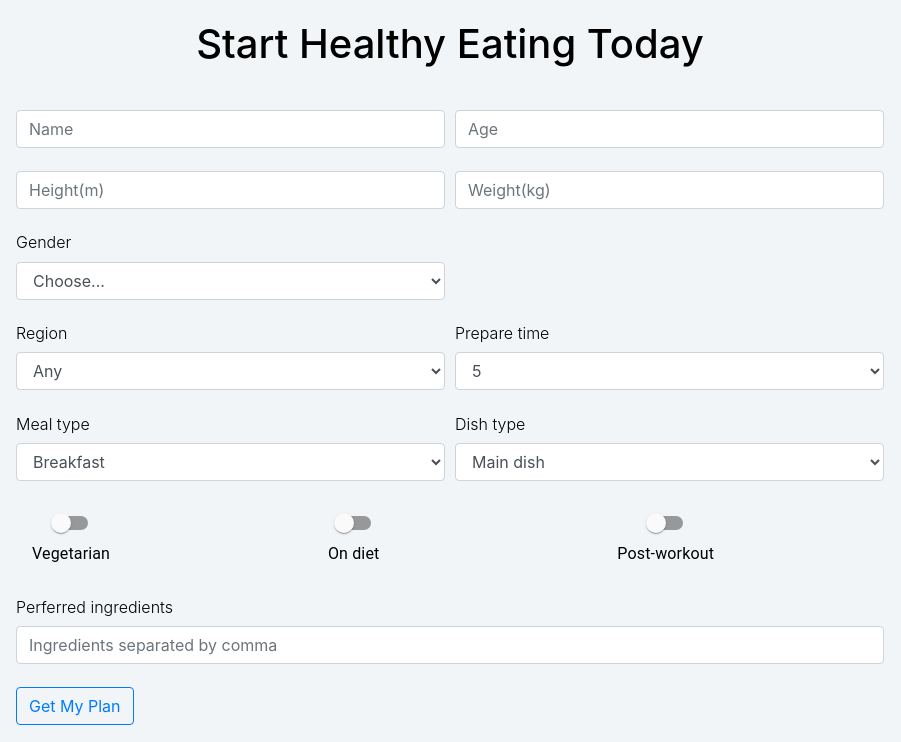
Test: Personal plan page scenario › should mock 3 suggestion
Click the button "Get My Plan": (75, 706) [16, 687, 134, 725]
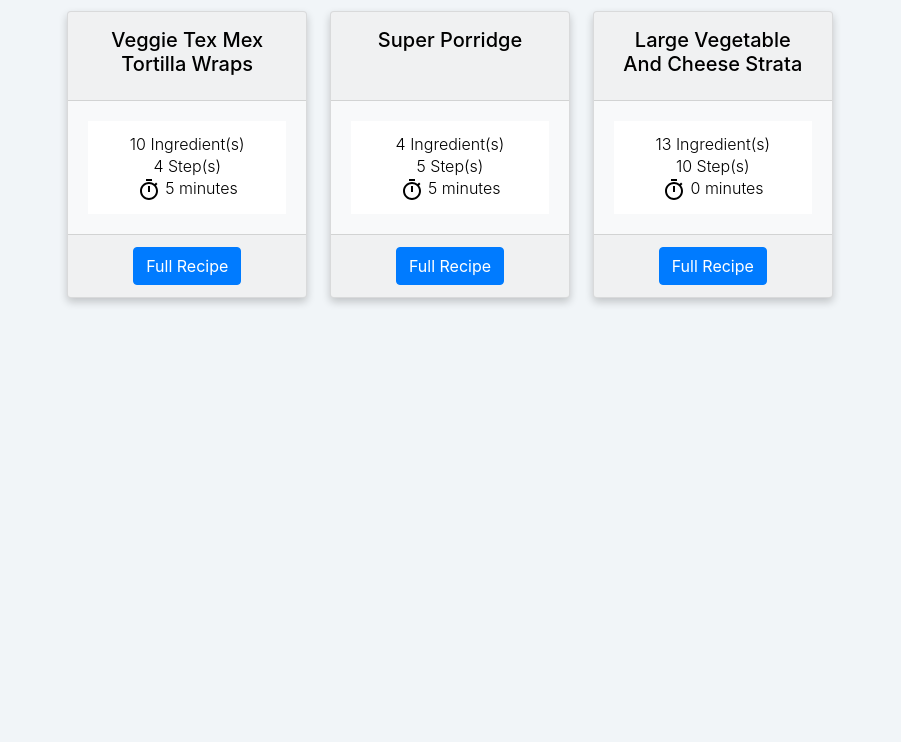
Expected: the element that starts with "veggie tex mex tortilla wraps" shows "minutes", [174, 178, 238, 198]
Expected: the element that starts with "veggie tex mex tortilla wraps" shows "Ingredient(s)", [146, 134, 245, 154]
Expected: the element that starts with "veggie tex mex tortilla wraps" shows "Step(s)", [164, 156, 221, 176]
